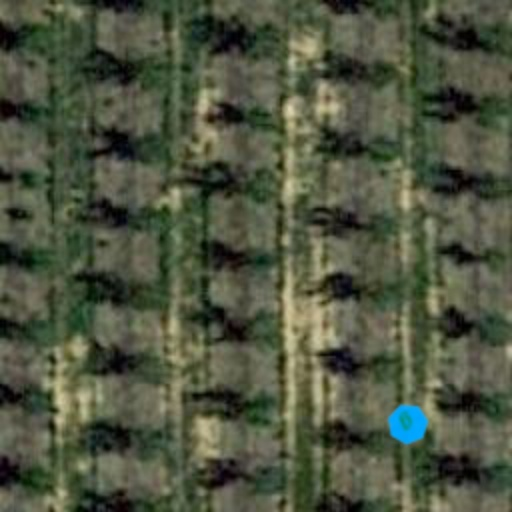heptagon: (378, 394, 438, 454)
